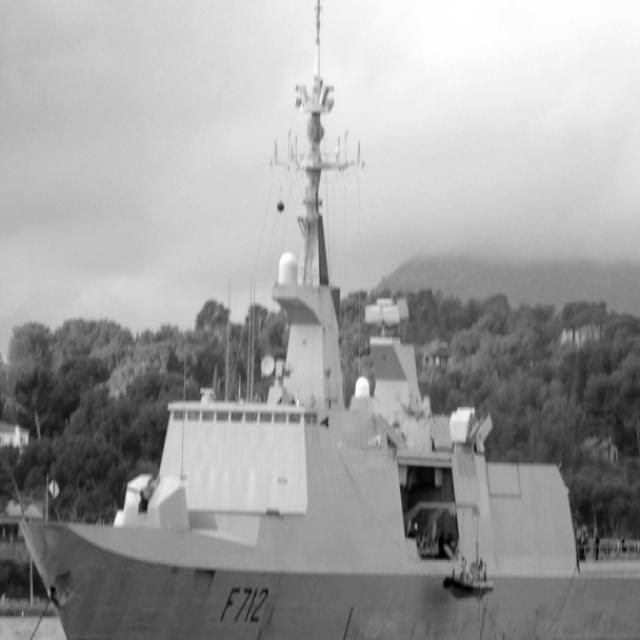Fragata: (14, 1, 640, 640)
